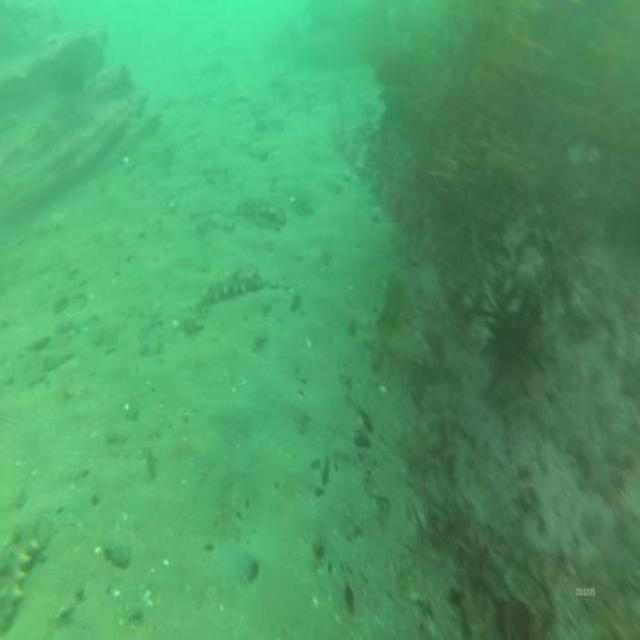echinus: (476, 276, 552, 400)
holothurian: (5, 509, 42, 640), (202, 270, 268, 304)
waterweeds: (379, 3, 640, 227)
